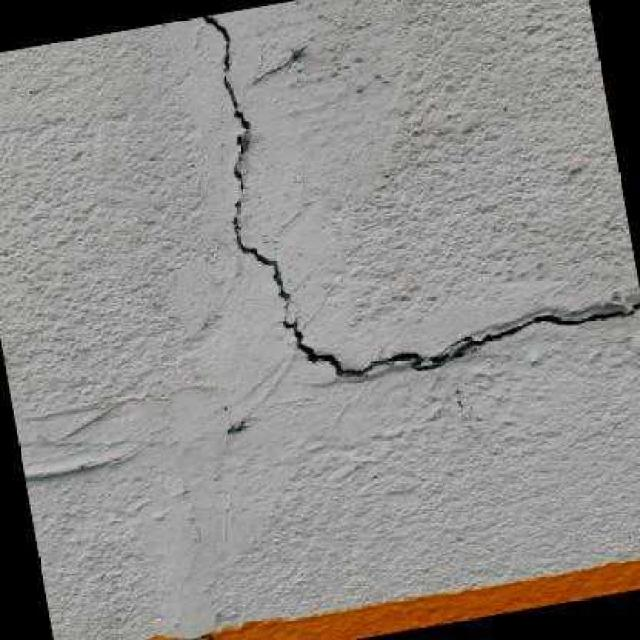D00: (199, 14, 640, 374)
